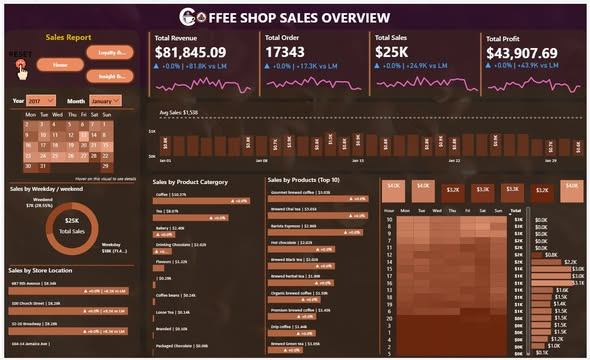

The page's visual inventory and layout, read from the dashboard file:
{"tool":"tableau","page":{"name":"Sales Dashboard","canvas":[1200,800],"ordinal":1},"visuals":[{"type":"image","param":"Image/Icon2.png","box":[0,0,120,89]},{"type":"text","box":[120,0,804,89]},{"type":"dashboard-object","box":[924,0,92,89]},{"type":"dashboard-object","box":[1016,0,92,89]},{"type":"dashboard-object","box":[1108,0,92,89]},{"type":"worksheet","title":"Sales by Month","mark":"Line","rows":["Total_Bill","Calculation_2566559271124299778"],"cols":["transaction_date"],"box":[400,89,400,321]},{"type":"worksheet","title":"Sales by Week","mark":"Area","rows":["Total_Bill"],"cols":["transaction_date"],"box":[800,89,400,321]},{"type":"worksheet","title":"KPI Sales","mark":"Line","rows":["Calculation_5126011232724000768"],"cols":["transaction_date"],"box":[16,95,368,267]},{"type":"text","box":[908,97,284,47.3]},{"type":"parameter","param":"[Parameters].[Parameter 1]","box":[908,144.3,284,47.3]},{"type":"text","box":[908,191.7,284,43]},{"type":"filter","title":"KPI Sales","param":"[federated.1cw3f6g1wk77oe1g50jml00lt89d].[none:product_category:nk]","box":[908,234.7,284,47.3]},{"type":"filter","title":"KPI Sales","param":"[federated.1cw3f6g1wk77oe1g50jml00lt89d].[none:Size:nk]","box":[908,282,284,46]},{"type":"text","box":[908,328,284,42]},{"type":"text","box":[16,362,368,32]},{"type":"filter","title":"KPI Sales","param":"[federated.1cw3f6g1wk77oe1g50jml00lt89d].[none:store_location:nk]","box":[908,370,284,32]},{"type":"worksheet","title":"Weekly Sales Trend","mark":"GanttBar","rows":["Calculation_4496562815699218435"],"cols":["transaction_date"],"box":[0,410,400,390]},{"type":"worksheet","title":" Revenue By Store Location","mark":"Bar","rows":["store_location"],"cols":["Total_Bill"],"box":[400,410,400,390]},{"type":"worksheet","title":"Revenue Per Product Type","mark":"Bar","rows":["product_detail"],"cols":["Total_Bill"],"box":[800,410,400,390]}]}

Visuals, with their boxes on the page's 1200x800 design canvas (x1, y1, x2, y2). These are canvas units, not pixel positions in the 590x360 screenshot, which may show the page scaled, cropped or inside an application window:
image: 0/0/120/89
text: 120/0/924/89
dashboard-object: 924/0/1016/89
dashboard-object: 1016/0/1108/89
dashboard-object: 1108/0/1200/89
"Sales by Month" worksheet (Line marks): 400/89/800/410
"Sales by Week" worksheet (Area marks): 800/89/1200/410
"KPI Sales" worksheet (Line marks): 16/95/384/362
text: 908/97/1192/144
parameter: 908/144/1192/192
text: 908/192/1192/235
"KPI Sales" filter: 908/235/1192/282
"KPI Sales" filter: 908/282/1192/328
text: 908/328/1192/370
text: 16/362/384/394
"KPI Sales" filter: 908/370/1192/402
"Weekly Sales Trend" worksheet (GanttBar marks): 0/410/400/800
" Revenue By Store Location" worksheet (Bar marks): 400/410/800/800
"Revenue Per Product Type" worksheet (Bar marks): 800/410/1200/800
